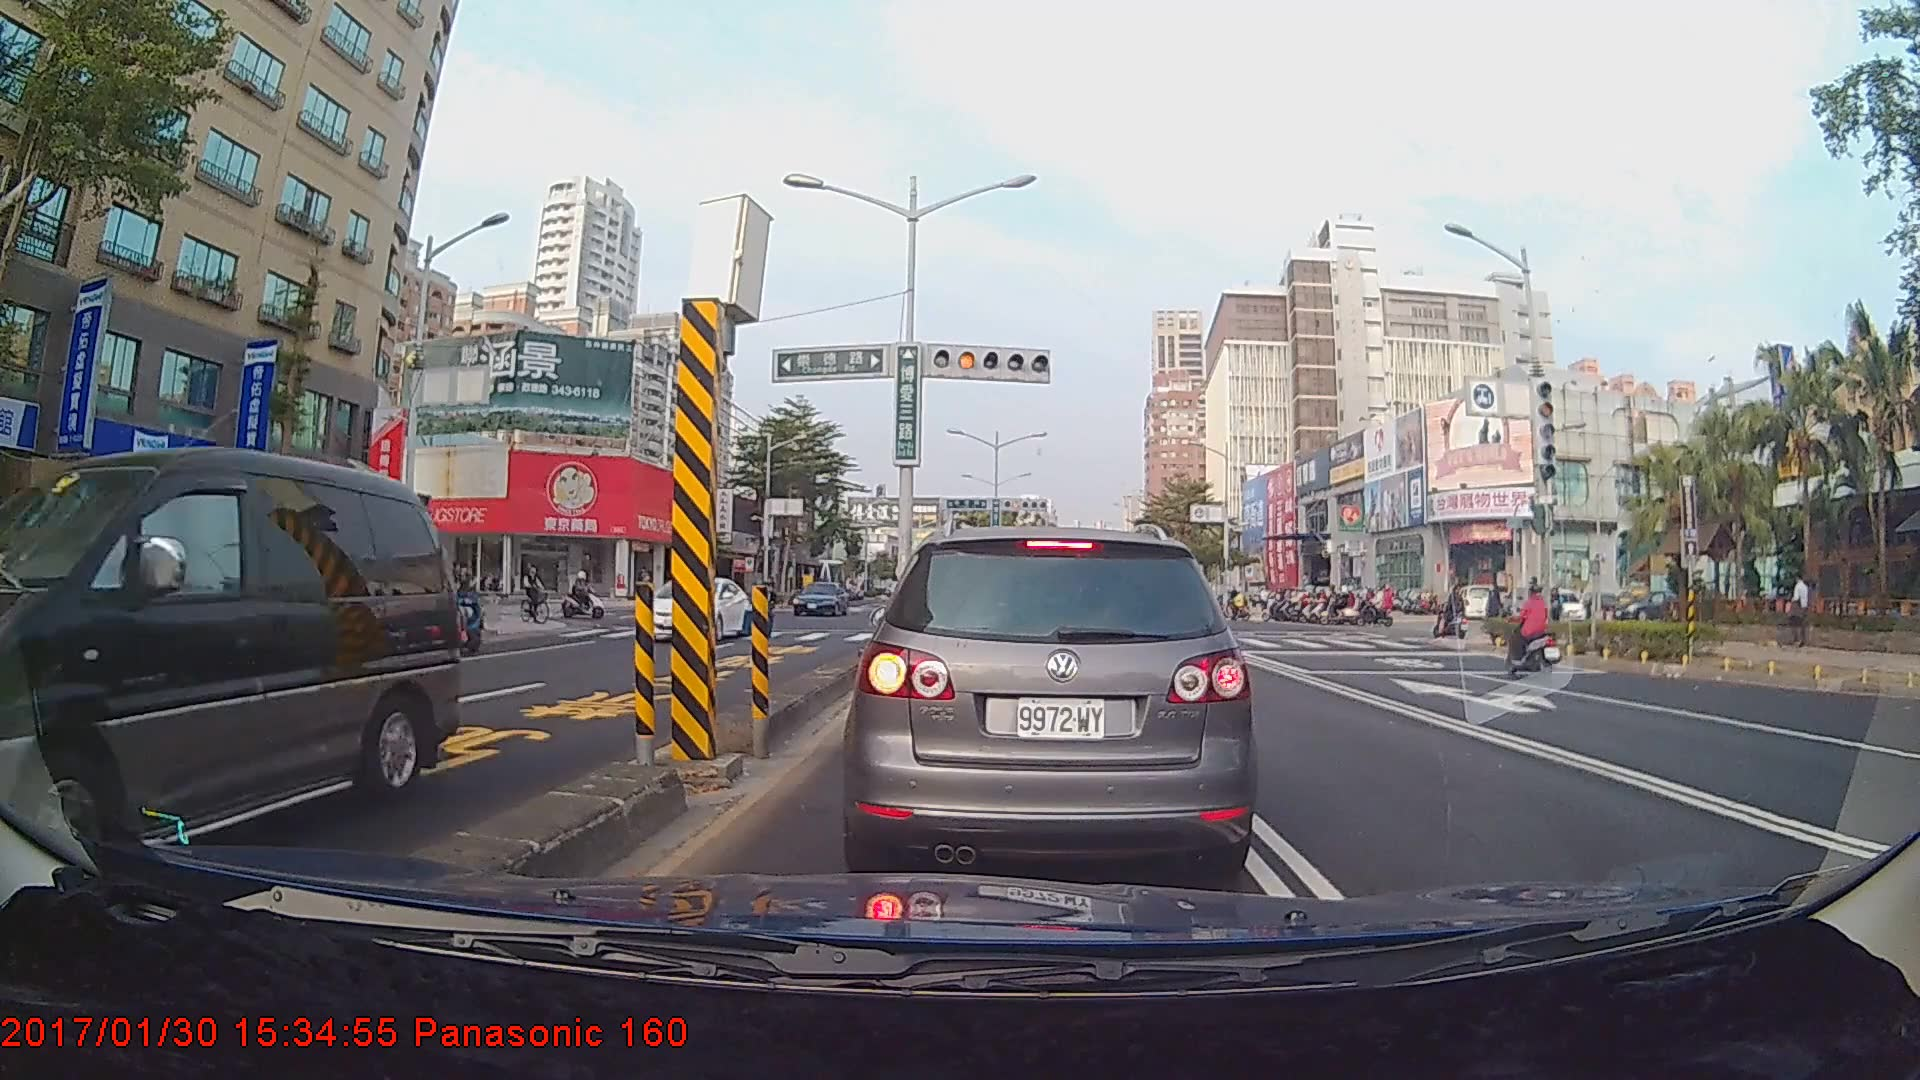pedestrian: (1785, 576, 1812, 648), (1484, 579, 1509, 637), (448, 558, 468, 621)
rider: (1505, 584, 1566, 675), (518, 559, 553, 629), (1436, 582, 1473, 646)
vehicle: (0, 445, 456, 879), (856, 524, 1244, 877), (638, 576, 750, 644), (791, 579, 846, 617)
